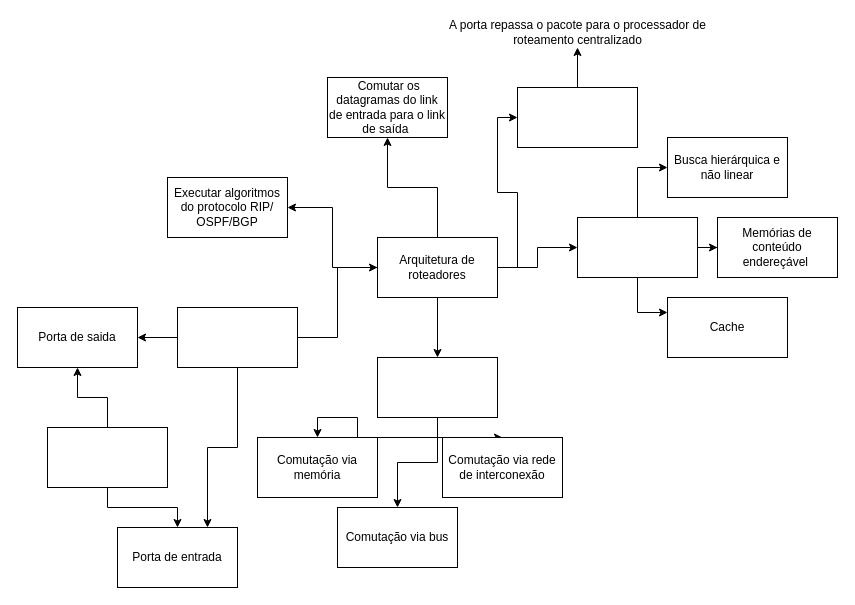
The diagram is 855 pixels wide and 605 high, and some of its shapes have lost their labels. The shapes that lost their labels are listed below. From the top down, each one's centre as x and y in pixels, then its label:
At [577,117]: "Roteadores com capacidade limitada".
At [637,247]: "Busca na tabela de repasse".
At [237,337]: "Comutação descentralizada".
At [437,387]: "Tipos de comutação".
At [107,457]: "Fila".
